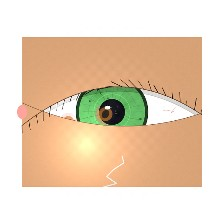foreign_body_visible: (83, 96, 128, 132)
